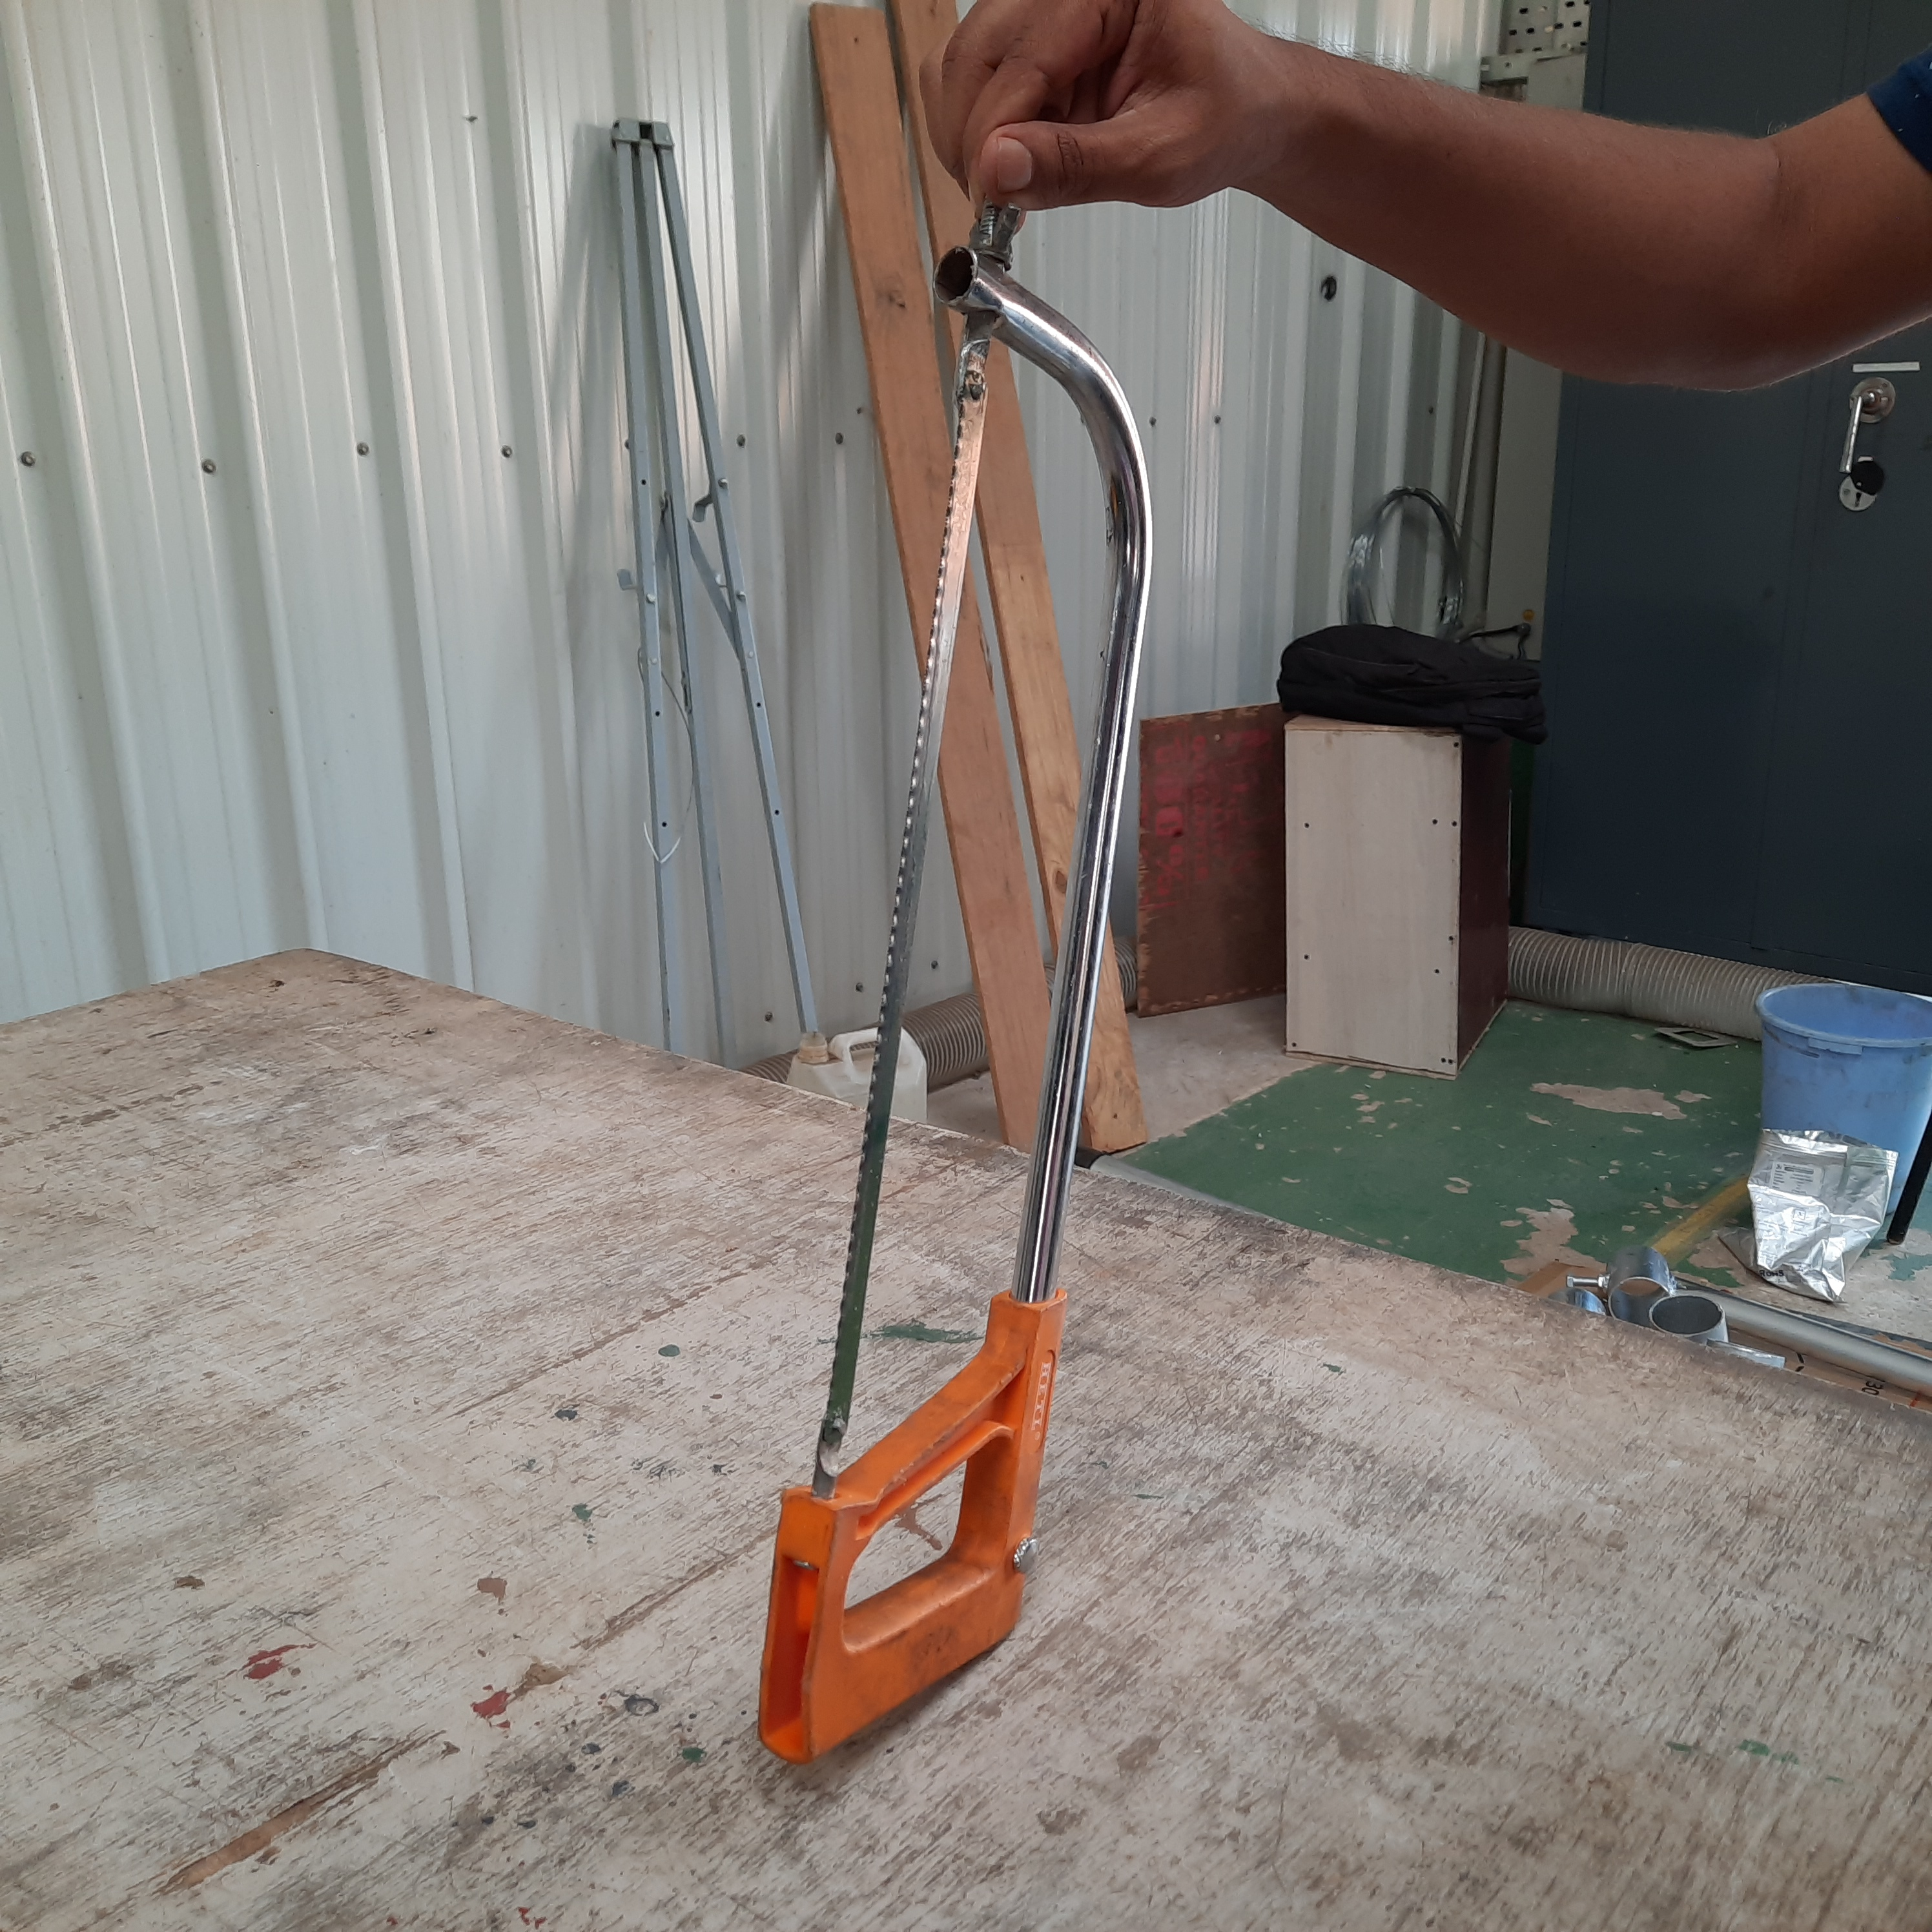Hexaframe: (694, 156, 1157, 1782)
